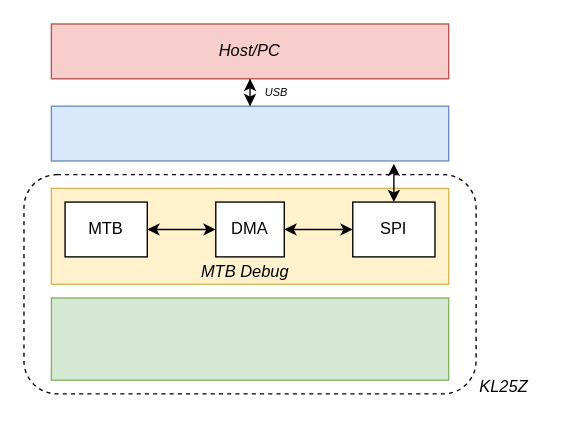
Image size: 569x432. Some labels were removed from this diagram. The centre of each missing label's shape, as x and y in pixels:
ch341 interface: pixel 249 133
Source code: pixel 249 338
